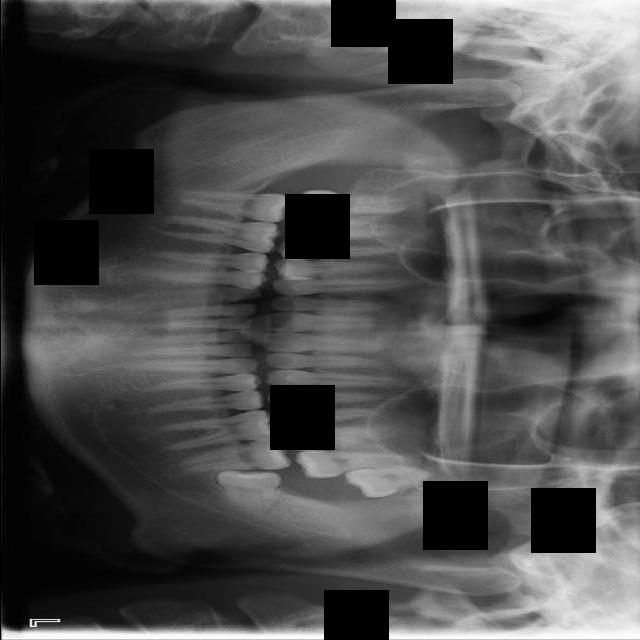73: (92, 612, 97, 616)
BioHorizons Implant: (292, 447, 410, 479)
BioLife Implant: (342, 464, 428, 500)
Biomet 3i Implant: (210, 464, 281, 519)
Blue Sky Bio Implant: (178, 438, 292, 472)
Caries: (291, 186, 406, 217)
Implant: (176, 188, 291, 224)
